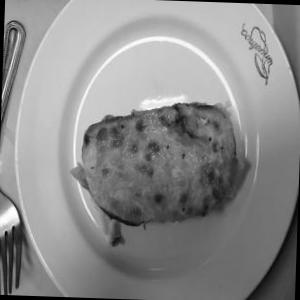cheese_sandwich: (66, 104, 255, 234)
